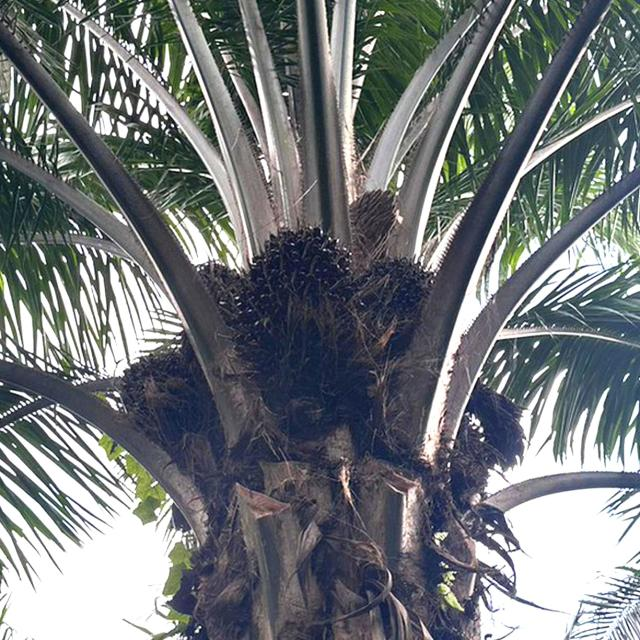ripe: (227, 208, 372, 398)
